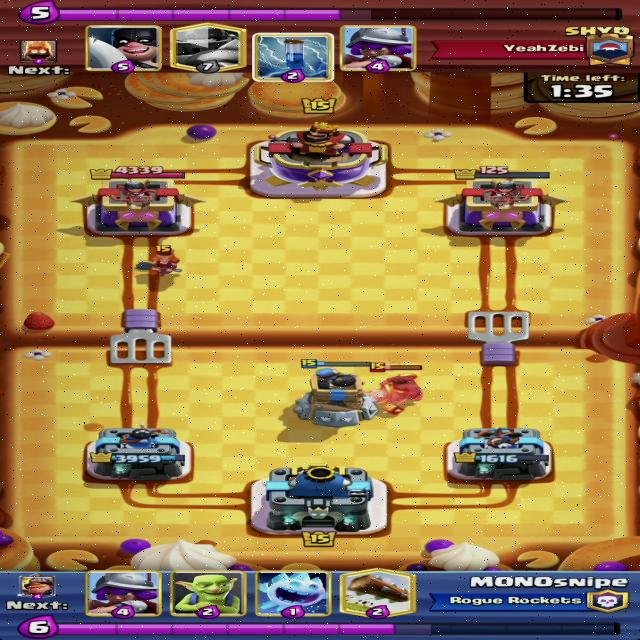Enemy-Hog: (359, 363, 424, 416)
Enemy-Valkyrie: (134, 244, 185, 277)
Player-BombTower: (293, 358, 380, 428)
